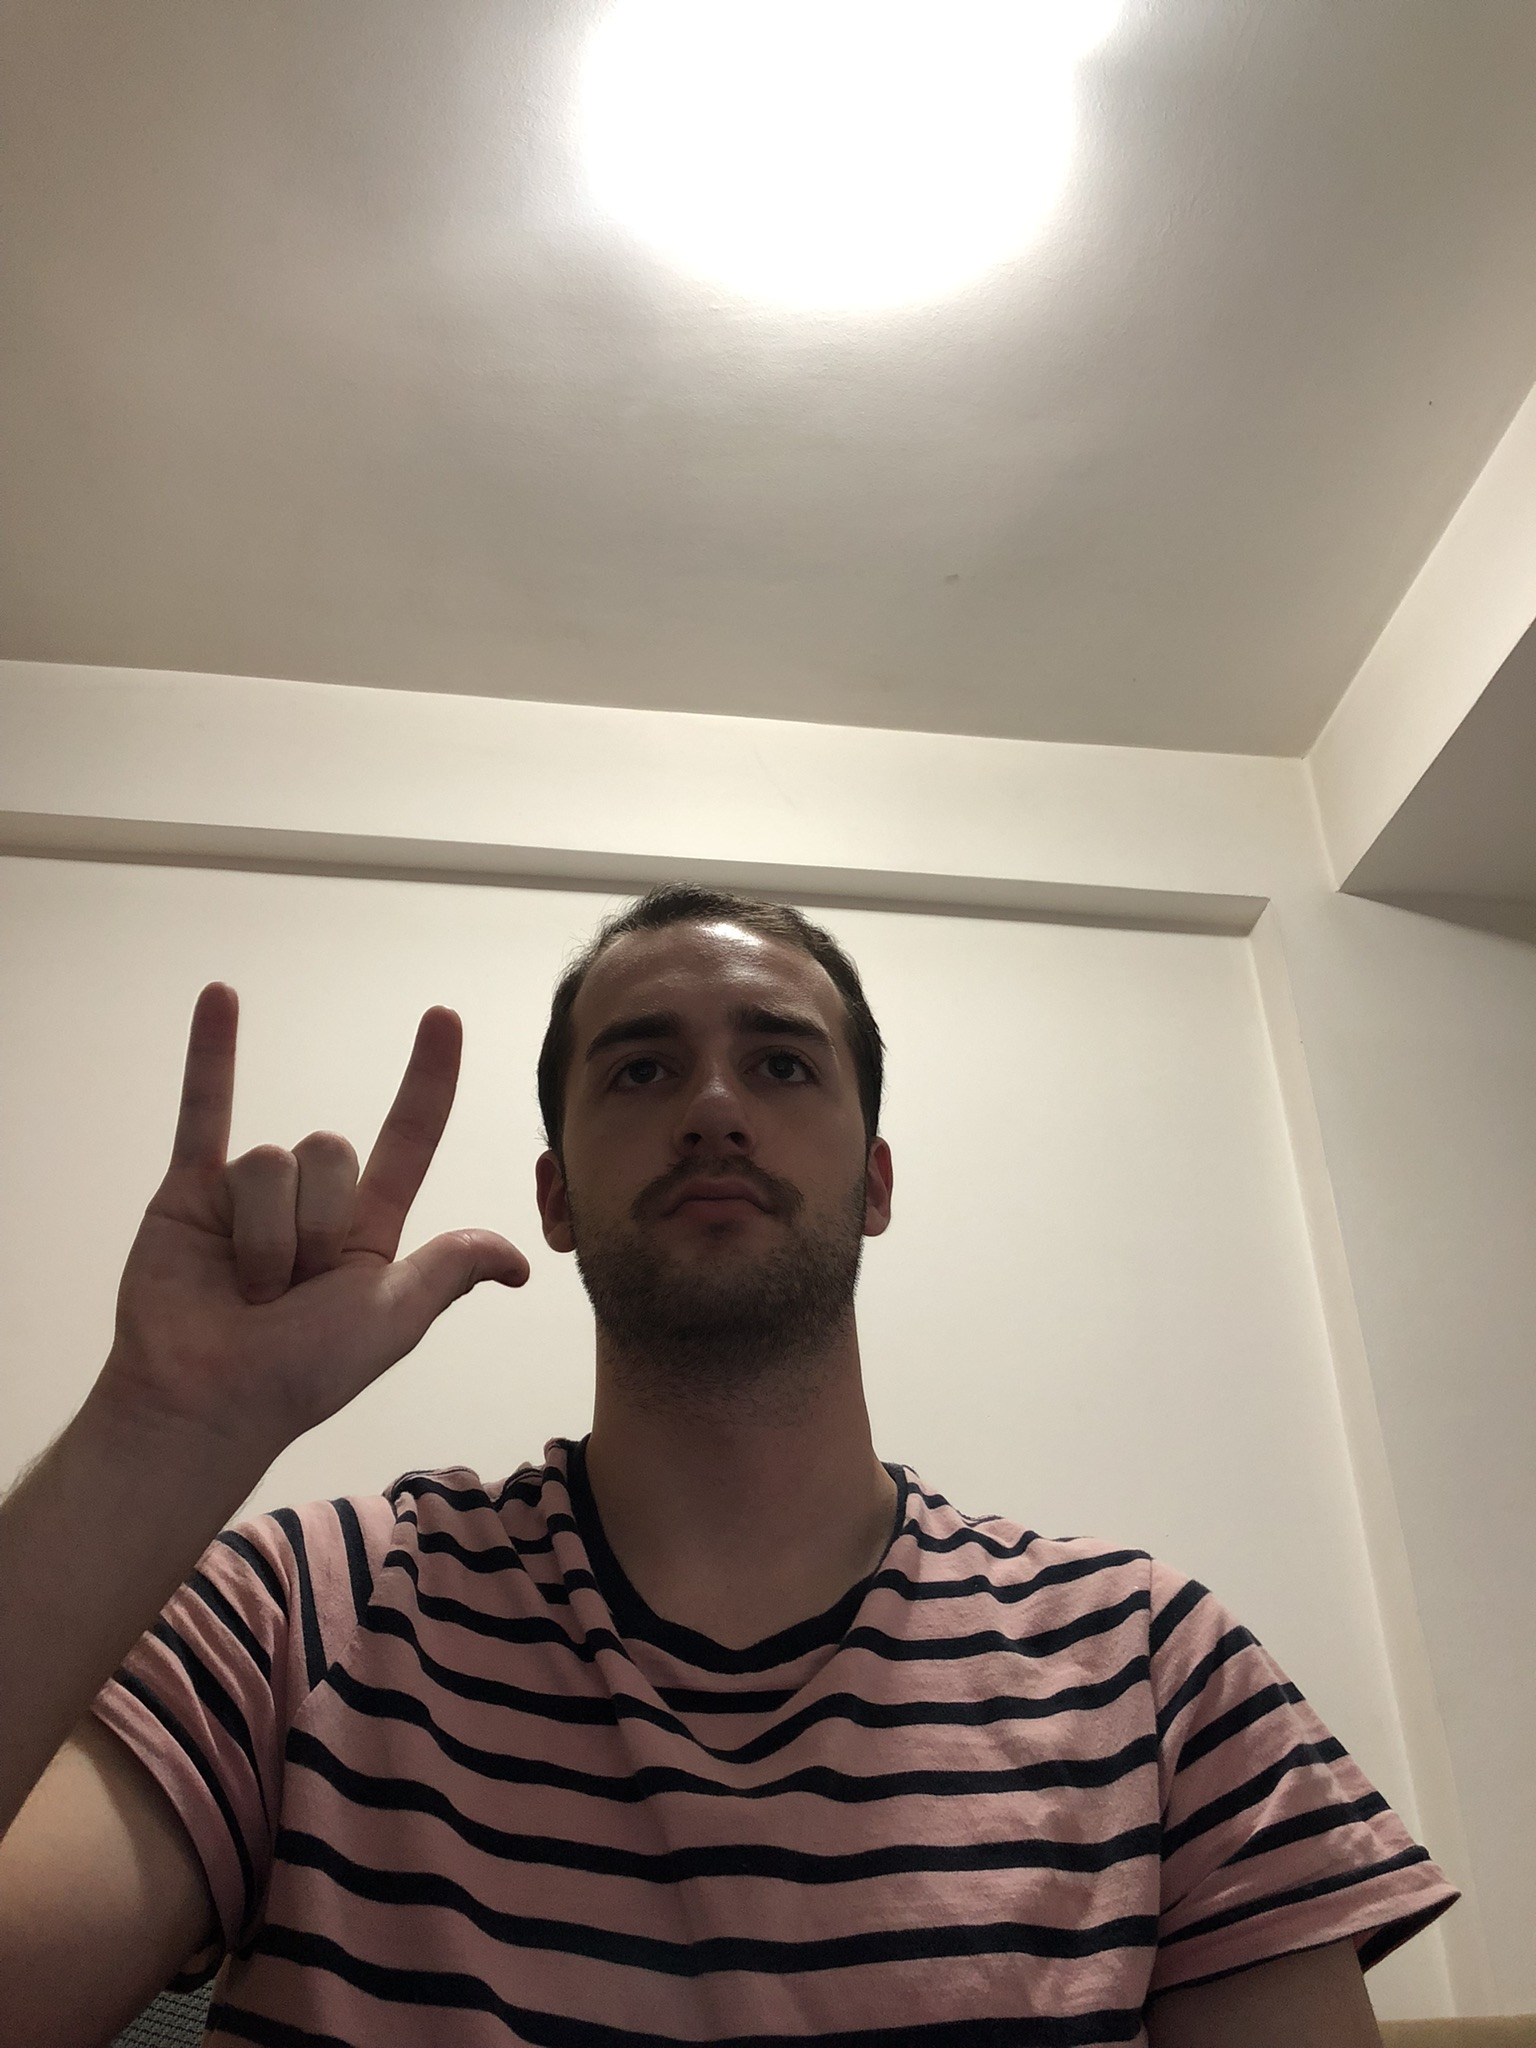I Love You: (94, 974, 539, 1476)
